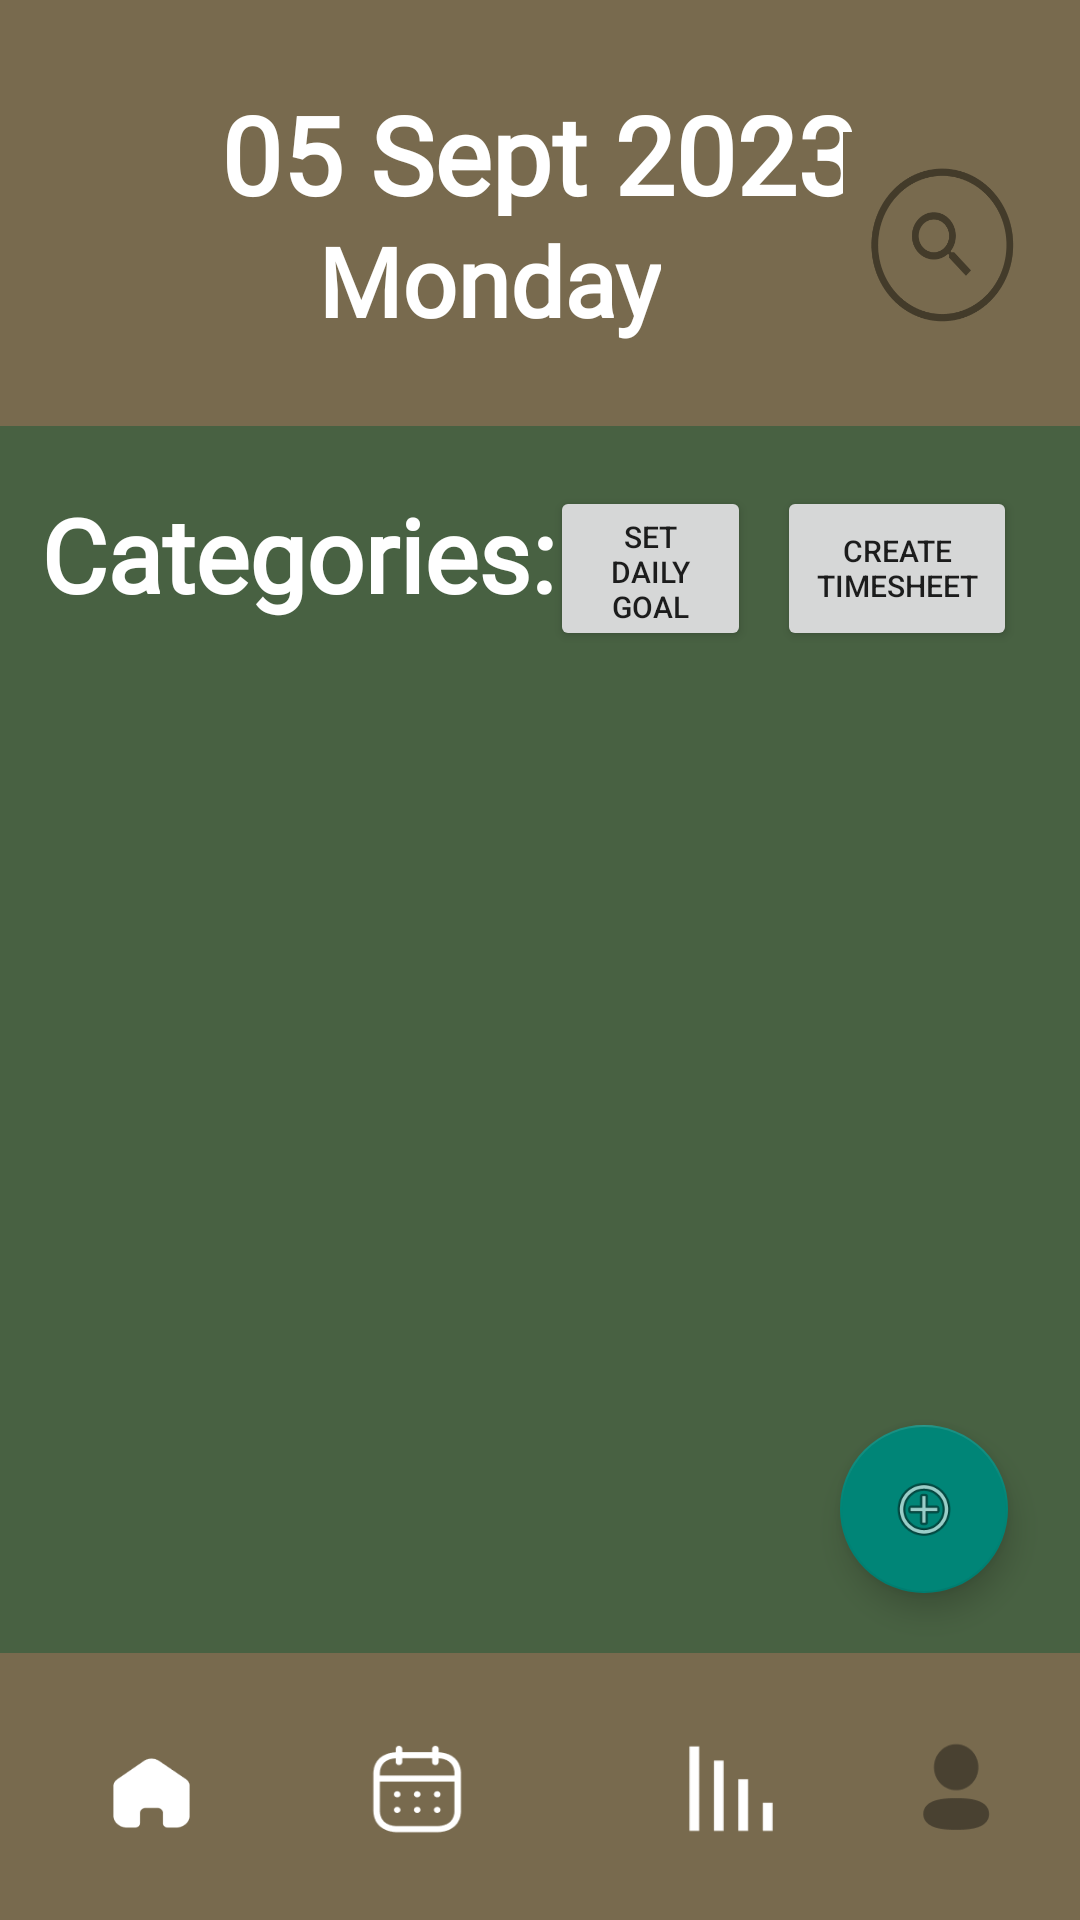

Locate icon controls on the screen. Image size 1080*1920, boxes as rect(x1, y1, x2, y2).
add: rect(840, 1425, 1008, 1593)
graph buttton: rect(689, 1746, 773, 1832)
